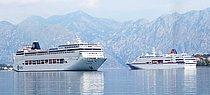Ship: (9, 35, 109, 72), (125, 43, 203, 74)
